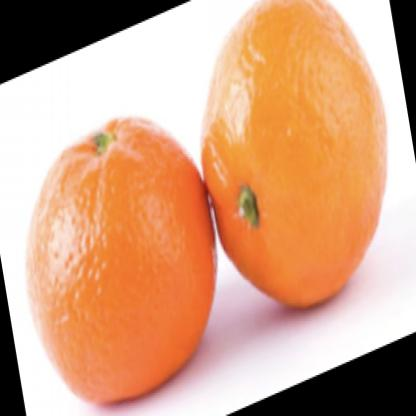orange: (199, 3, 391, 317), (27, 101, 220, 407)
